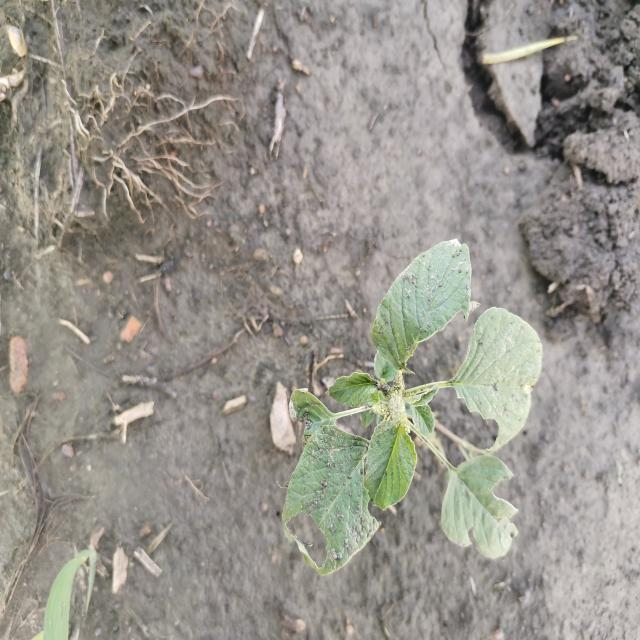PalmerAmaranth: (278, 237, 543, 579)
